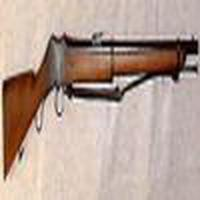gun: (1, 28, 200, 178)
